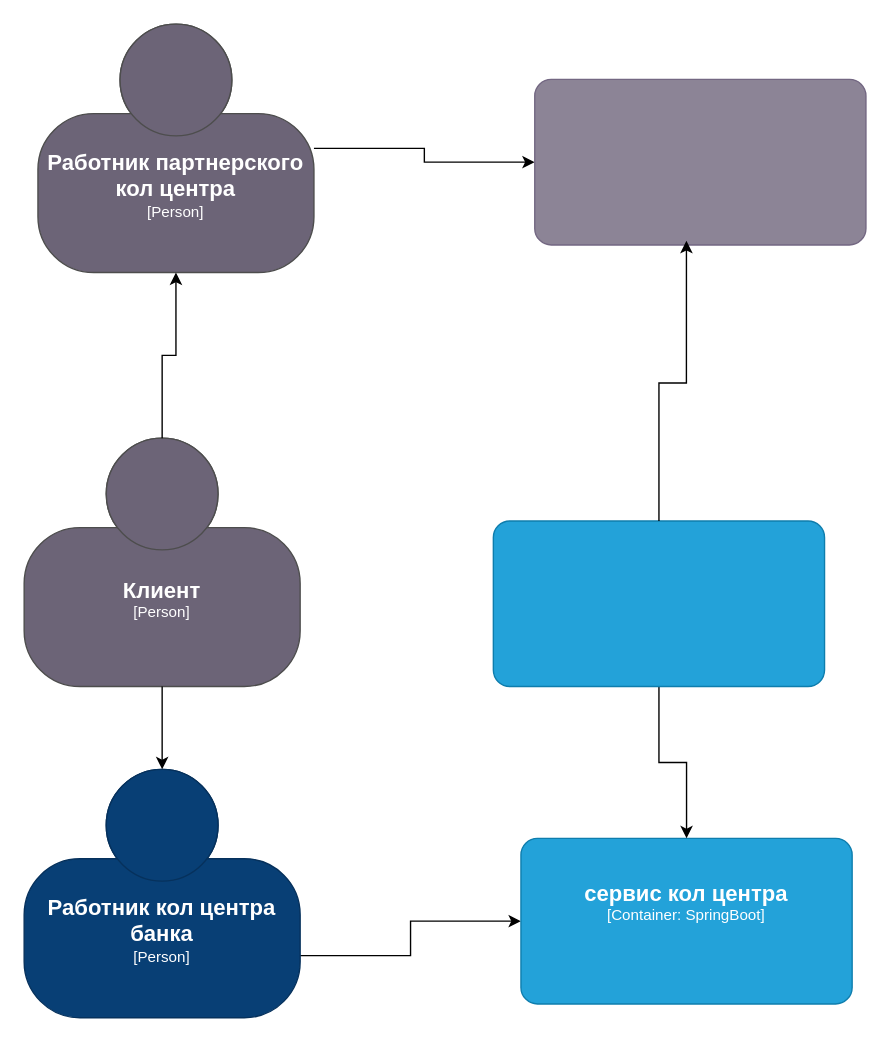
This 890x1042 diagram has some shape labels left out. The shapes that lost their labels are listed below. From the top down, each one's centre as x and y in pixels, then its label:
At point (699, 161): "сервис партнерского кол центра [Software System]".
At point (658, 603): "Сервис ставок [Container: SpringBoot]".
